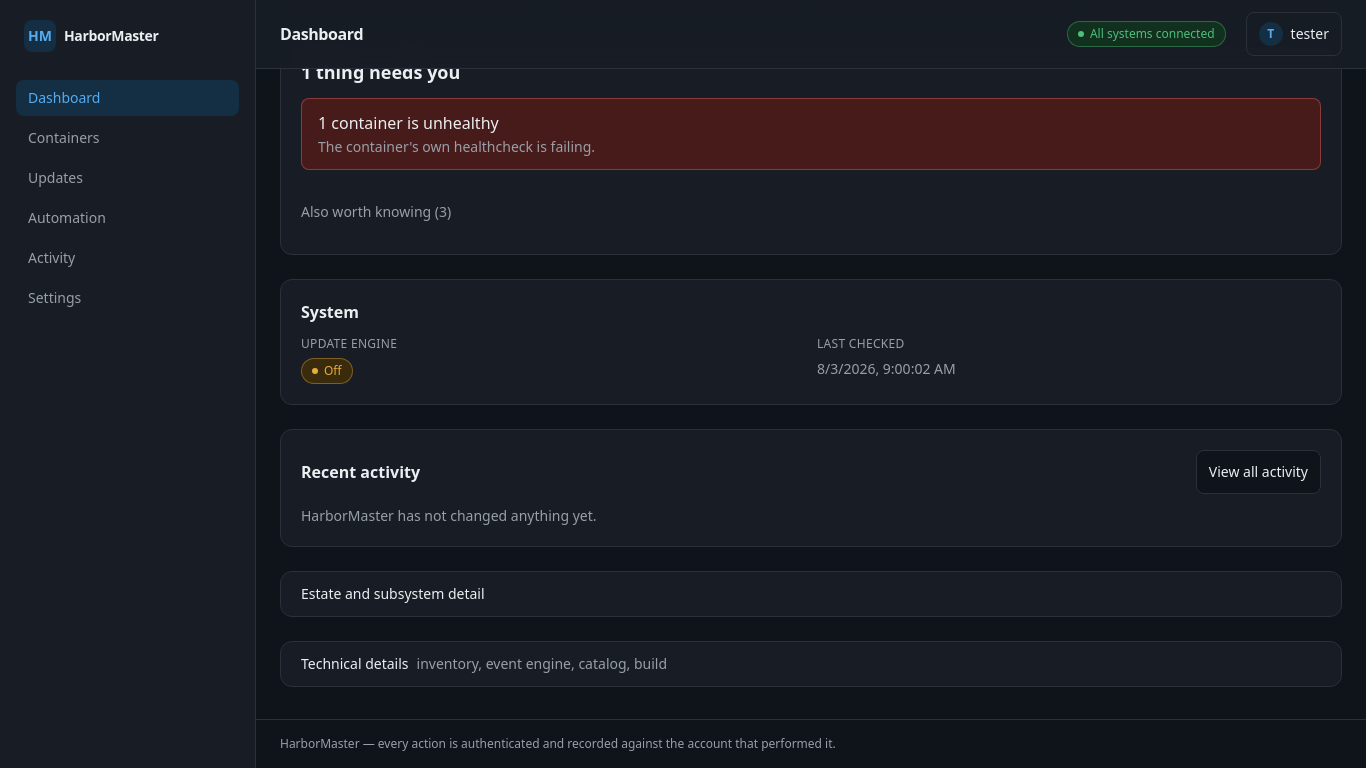
manual refresh › reports a conflict when a refresh is already running
The width and height of the screenshot is (1366, 768).
(page scrolled)
Click the heading "Technical details inventory, event engine, catalog, build".
click(484, 664)  # box [301,654,667,673]
(page scrolled)
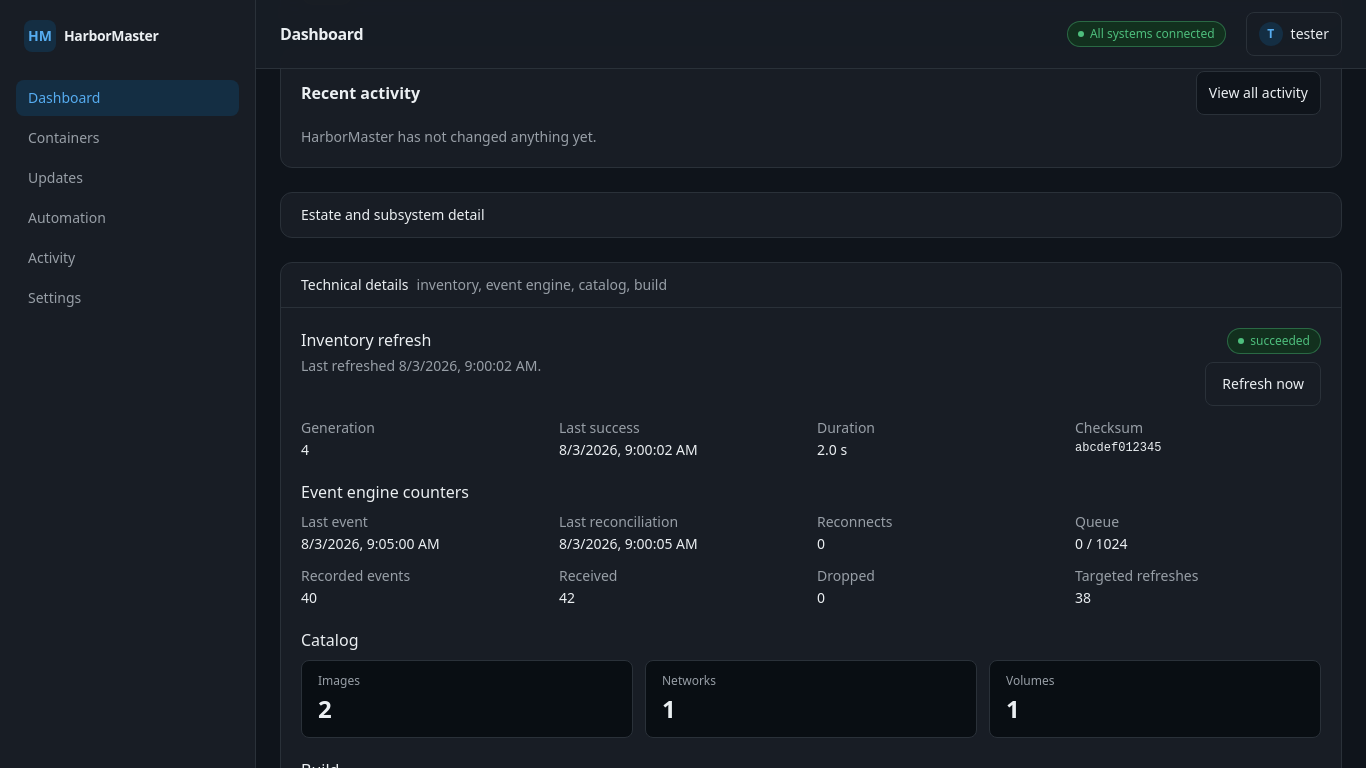
Check: the button "Refresh now" is enabled
Click the button "Refresh now".
click(1263, 384)  # box [1205,362,1321,406]
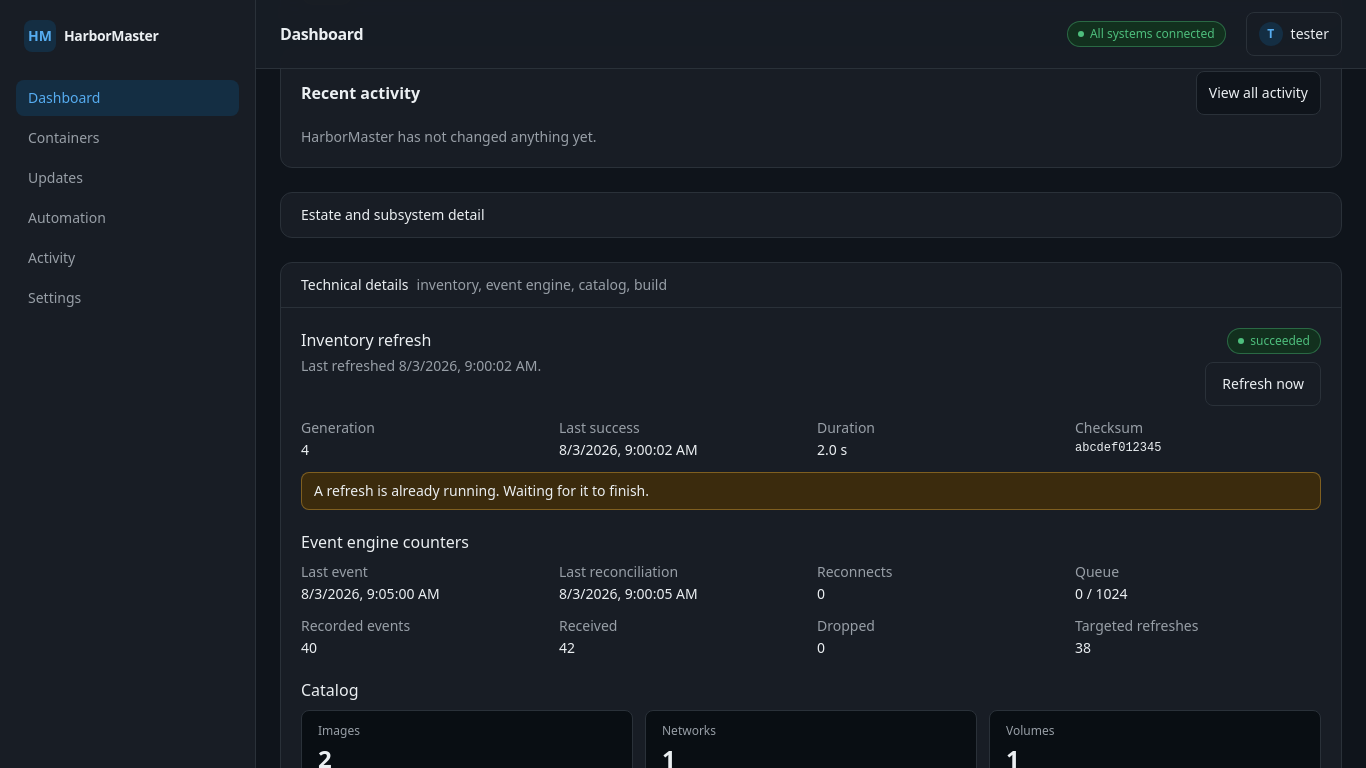
Check: the message named "refresh status" shows "already running", box [314,481,649,500]
